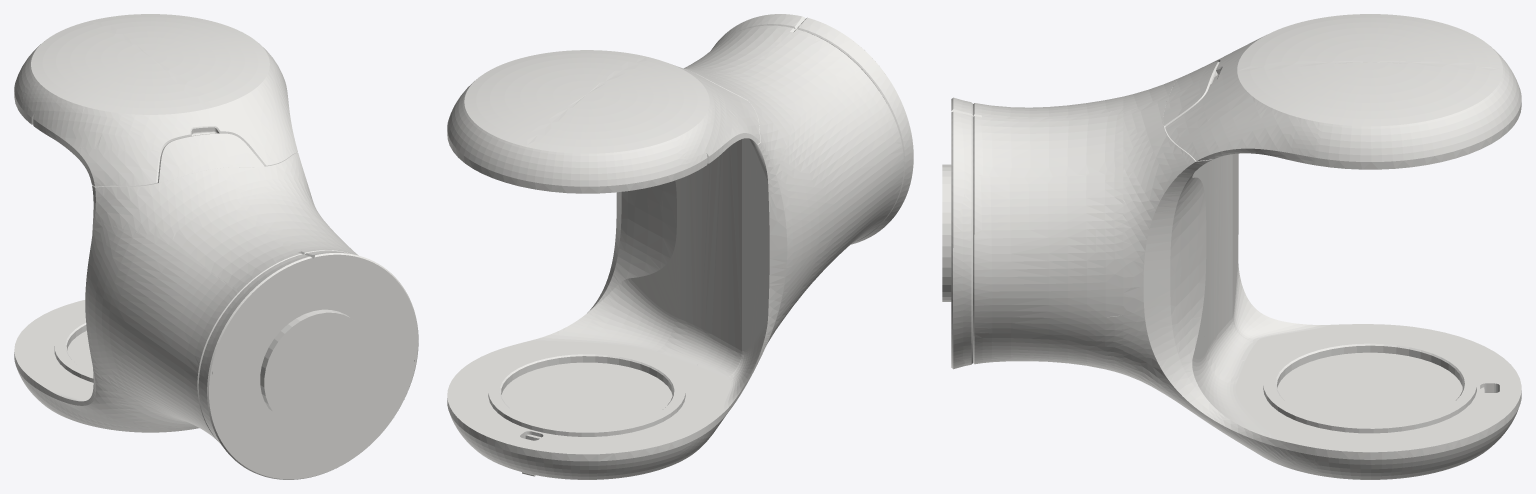
File: AR5_5_08L_W4C4A6_link4_vis.obj
3 views of the same model, side by side, from view 1: azimuth 30°, elevation 25°; view 2: azimuth 150°, elevation 25°; view 3: azimuth 270°, elevation 25° (orthographic). The views are drawn at different scales.
Visible parts, largest first — view 1: AR5_5_08L_W4C4A6_link4; view 2: AR5_5_08L_W4C4A6_link4; view 3: AR5_5_08L_W4C4A6_link4.
Part boxes in pixels (<box>): AR5_5_08L_W4C4A6_link4: <box>14,14,418,479</box>; AR5_5_08L_W4C4A6_link4: <box>447,14,913,479</box>; AR5_5_08L_W4C4A6_link4: <box>942,14,1521,479</box>.
Bounding box in the file's own units: 0.1058 × 0.1335 × 0.1896.
1 material, 1 textured.
